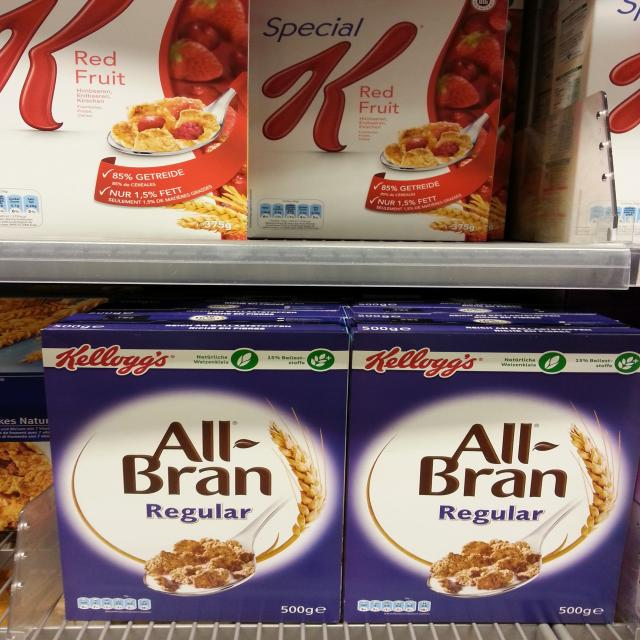Cereals: (43, 310, 348, 622), (344, 312, 640, 624), (248, 0, 506, 240), (0, 0, 250, 242)
